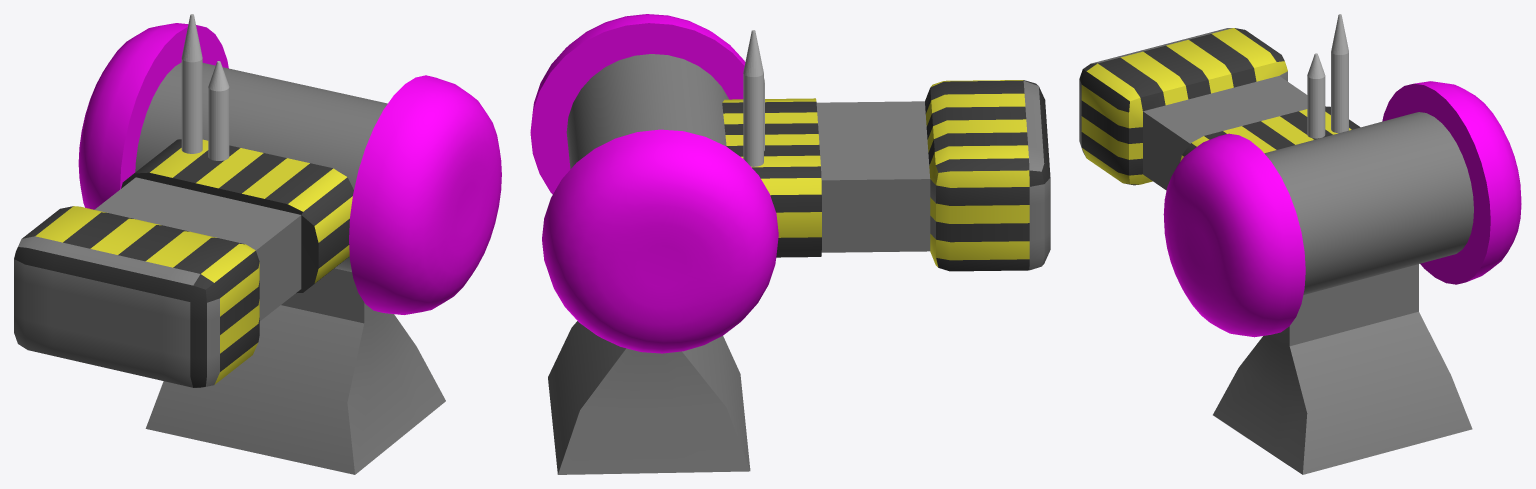
Rendered from PhysicsLab.fbx.
3 views of the same model, side by side, from view 1: azimuth 30°, elevation 25°; view 2: azimuth 150°, elevation 25°; view 3: azimuth 270°, elevation 25° (orthographic). The views are drawn at different scales.
Visible parts, largest first — view 1: Cube.053, Cylinder.064, Sphere.019, Cylinder.066; view 2: Sphere.019, Cube.053, Cylinder.064, Cylinder.066; view 3: Cylinder.064, Sphere.019, Cube.053, Cylinder.066.
Part boxes in pixels (x1,y1,x2,y2): Cube.053: (14, 139, 353, 387); Cylinder.064: (135, 62, 445, 474); Sphere.019: (78, 23, 501, 314); Cylinder.066: (181, 14, 229, 160); Sphere.019: (530, 14, 778, 353); Cube.053: (722, 80, 1050, 271); Cylinder.064: (548, 54, 750, 474); Cylinder.066: (743, 30, 764, 166); Cylinder.064: (1213, 112, 1473, 474); Sphere.019: (1163, 81, 1521, 337); Cube.053: (1079, 28, 1360, 190); Cylinder.066: (1307, 14, 1348, 138).
Size of the model in its own units: 156 by 128 by 141.
